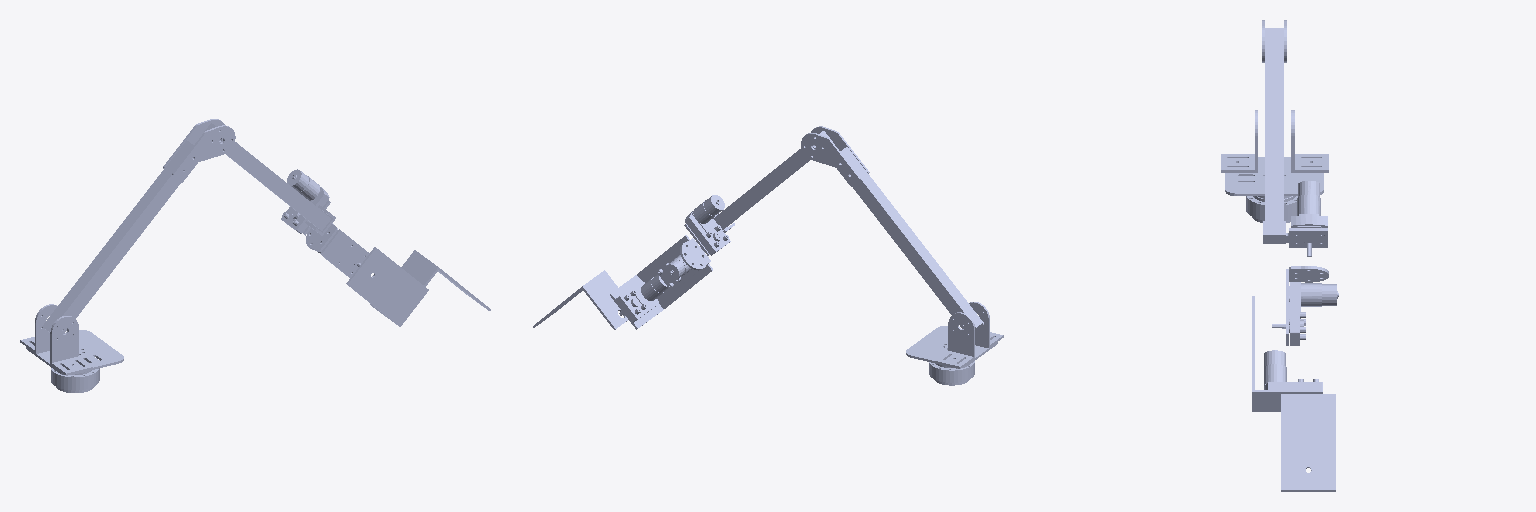
robot.urdf — arm_final:
<robot
  name="arm_final">
  <link
    name="base_link">
    <inertial>
      <origin
        xyz="-4.8919202022546E-16 -1.53002610581154E-15 0.0316685581856065"
        rpy="0 0 0" />
      <mass
        value="0.298004525740919" />
      <inertia
        ixx="0.000216487162040143"
        ixy="2.14511093892152E-19"
        ixz="6.62379764752863E-19"
        iyy="0.000216487162040143"
        iyz="-1.90836523016394E-18"
        izz="0.000273202741484089" />
    </inertial>
    <visual>
      <origin
        xyz="0 0 0"
        rpy="0 0 0" />
      <geometry>
        <mesh
          filename="package://arm_final/meshes/base_link.STL" />
      </geometry>
      <material
        name="">
        <color
          rgba="0.792156862745098 0.819607843137255 0.933333333333333 1" />
      </material>
    </visual>
    <collision>
      <origin
        xyz="0 0 0"
        rpy="0 0 0" />
      <geometry>
        <mesh
          filename="package://arm_final/meshes/base_link.STL" />
      </geometry>
    </collision>
  </link>
  <link
    name="dof_1">
    <inertial>
      <origin
        xyz="0.0244999196045124 0.0266781560710179 -0.0274078608809557"
        rpy="0 0 0" />
      <mass
        value="0.184566420416876" />
      <inertia
        ixx="0.000642874909767405"
        ixy="-5.78743454260767E-05"
        ixz="1.01840204362613E-06"
        iyy="0.000483827075446106"
        iyz="2.13199542065923E-06"
        izz="0.000380120979154723" />
    </inertial>
    <visual>
      <origin
        xyz="0 0 0"
        rpy="0 0 0" />
      <geometry>
        <mesh
          filename="package://arm_final/meshes/dof_1.STL" />
      </geometry>
      <material
        name="">
        <color
          rgba="0.792156862745098 0.819607843137255 0.933333333333333 1" />
      </material>
    </visual>
    <collision>
      <origin
        xyz="0 0 0"
        rpy="0 0 0" />
      <geometry>
        <mesh
          filename="package://arm_final/meshes/dof_1.STL" />
      </geometry>
    </collision>
  </link>
  <joint
    name="j_dof_1"
    type="continuous">
    <origin
      xyz="-0.0435 -0.027 0.10603"
      rpy="1.5708 1.5708 0" />
    <parent
      link="base_link" />
    <child
      link="dof_1" />
    <axis
      xyz="-1 0 0" />
  </joint>
  <link
    name="dof_2">
    <inertial>
      <origin
        xyz="0.169248177197148 0.00468167779047434 0.166953007051929"
        rpy="0 0 0" />
      <mass
        value="0.457478533761127" />
      <inertia
        ixx="0.00460376442673189"
        ixy="-1.98205709657506E-19"
        ixz="-0.00466753134808732"
        iyy="0.00945287913258603"
        iyz="-1.59919820441612E-18"
        izz="0.00494585962599626" />
    </inertial>
    <visual>
      <origin
        xyz="0 0 0"
        rpy="0 0 0" />
      <geometry>
        <mesh
          filename="package://arm_final/meshes/dof_2.STL" />
      </geometry>
      <material
        name="">
        <color
          rgba="0.792156862745098 0.819607843137255 0.933333333333333 1" />
      </material>
    </visual>
    <collision>
      <origin
        xyz="0 0 0"
        rpy="0 0 0" />
      <geometry>
        <mesh
          filename="package://arm_final/meshes/dof_2.STL" />
      </geometry>
    </collision>
  </link>
  <joint
    name="j_dof_2"
    type="revolute">
    <origin
      xyz="-0.029471 0.0035 -0.021818"
      rpy="-1.5708 -1.5103E-14 1.5708" />
    <parent
      link="dof_1" />
    <child
      link="dof_2" />
    <axis
      xyz="0 -1 0" />
    <limit
      lower="-0.34"
      upper="1.3"
      effort="0"
      velocity="0" />
  </joint>
  <link
    name="dof_3">
    <inertial>
      <origin
        xyz="0.156732267290883 0.0250916520294329 -0.150336651462648"
        rpy="0 0 0" />
      <mass
        value="0.519004826088558" />
      <inertia
        ixx="0.00349626515568729"
        ixy="-0.000749497325149855"
        ixz="0.00304089129286526"
        iyy="0.00643696142998314"
        iyz="0.000631377049987083"
        izz="0.00382311214222597" />
    </inertial>
    <visual>
      <origin
        xyz="0 0 0"
        rpy="0 0 0" />
      <geometry>
        <mesh
          filename="package://arm_final/meshes/dof_3.STL" />
      </geometry>
      <material
        name="">
        <color
          rgba="0.792156862745098 0.819607843137255 0.933333333333333 1" />
      </material>
    </visual>
    <collision>
      <origin
        xyz="0 0 0"
        rpy="0 0 0" />
      <geometry>
        <mesh
          filename="package://arm_final/meshes/dof_3.STL" />
      </geometry>
    </collision>
  </link>
  <joint
    name="j_dof_3"
    type="revolute">
    <origin
      xyz="0.35124 0 0.31344"
      rpy="-3.4694E-18 -1.3878E-17 1.2143E-17" />
    <parent
      link="dof_2" />
    <child
      link="dof_3" />
    <axis
      xyz="0 -1 0" />
    <limit
      lower="-0.75"
      upper="1.13"
      effort="0"
      velocity="0" />
  </joint>
  <link
    name="dof_4">
    <inertial>
      <origin
        xyz="0.0704384576587642 -0.0119497807017928 -0.0704565954495338"
        rpy="0 0 0" />
      <mass
        value="0.214734243860134" />
      <inertia
        ixx="0.000224163723514465"
        ixy="3.94569148630422E-05"
        ixz="7.36506705649978E-05"
        iyy="0.000243644832516678"
        iyz="-3.94981523185265E-05"
        izz="0.000224085439121708" />
    </inertial>
    <visual>
      <origin
        xyz="0 0 0"
        rpy="0 0 0" />
      <geometry>
        <mesh
          filename="package://arm_final/meshes/dof_4.STL" />
      </geometry>
      <material
        name="">
        <color
          rgba="0.792156862745098 0.819607843137255 0.933333333333333 1" />
      </material>
    </visual>
    <collision>
      <origin
        xyz="0 0 0"
        rpy="0 0 0" />
      <geometry>
        <mesh
          filename="package://arm_final/meshes/dof_4.STL" />
      </geometry>
    </collision>
  </link>
  <joint
    name="j_dof_4"
    type="revolute">
    <origin
      xyz="0.22524 0.060682 -0.25352"
      rpy="-3.4694E-18 -1.3878E-17 1.2143E-17" />
    <parent
      link="dof_3" />
    <child
      link="dof_4" />
    <axis
      xyz="-0.70711 0 0.70711" />
    <limit
      lower="-1.57"
      upper="2.3"
      effort="0"
      velocity="0" />
  </joint>
  <link
    name="dof_5">
    <inertial>
      <origin
        xyz="0.0648233009354049 -0.0492553742798068 -0.0648368742596185"
        rpy="0 0 0" />
      <mass
        value="0.286949151467163" />
      <inertia
        ixx="0.000612123465719283"
        ixy="-0.000157903243673435"
        ixz="0.000173114616600611"
        iyy="0.000578013092781289"
        iyz="0.000157997620916116"
        izz="0.000611994831664837" />
    </inertial>
    <visual>
      <origin
        xyz="0 0 0"
        rpy="0 0 0" />
      <geometry>
        <mesh
          filename="package://arm_final/meshes/dof_5.STL" />
      </geometry>
      <material
        name="">
        <color
          rgba="0.792156862745098 0.819607843137255 0.933333333333333 1" />
      </material>
    </visual>
    <collision>
      <origin
        xyz="0 0 0"
        rpy="0 0 0" />
      <geometry>
        <mesh
          filename="package://arm_final/meshes/dof_5.STL" />
      </geometry>
    </collision>
  </link>
  <joint
    name="j_dof_5"
    type="revolute">
    <origin
      xyz="0.097485 0 -0.097485"
      rpy="-3.4694E-18 -1.3878E-17 1.2143E-17" />
    <parent
      link="dof_4" />
    <child
      link="dof_5" />
    <axis
      xyz="0 -1 0" />
    <limit
      lower="-1.57"
      upper="1.57"
      effort="0"
      velocity="0" />
  </joint>
  <link
    name="dof_6">
    <inertial>
      <origin
        xyz="0.133615661096911 4.02455846426619E-15 -0.0368420116719946"
        rpy="0 0 0" />
      <mass
        value="0.119536504591507" />
      <inertia
        ixx="0.000196101200035635"
        ixy="-1.04036821746509E-18"
        ixz="0.000111858189445449"
        iyy="0.000470580806244086"
        iyz="2.27851862811407E-19"
        izz="0.000438421157653592" />
    </inertial>
    <visual>
      <origin
        xyz="0 0 0"
        rpy="0 0 0" />
      <geometry>
        <mesh
          filename="package://arm_final/meshes/dof_6.STL" />
      </geometry>
      <material
        name="">
        <color
          rgba="0.792156862745098 0.819607843137255 0.933333333333333 1" />
      </material>
    </visual>
    <collision>
      <origin
        xyz="0 0 0"
        rpy="0 0 0" />
      <geometry>
        <mesh
          filename="package://arm_final/meshes/dof_6.STL" />
      </geometry>
    </collision>
  </link>
  <joint
    name="j_dof_6"
    type="revolute">
    <origin
      xyz="0.057446 -0.001 -0.057446"
      rpy="-3.4694E-18 -1.3878E-17 1.2143E-17" />
    <parent
      link="dof_5" />
    <child
      link="dof_6" />
    <axis
      xyz="-0.70711 0 0.70711" />
    <limit
      lower="-1.57"
      upper="1.57"
      effort="0"
      velocity="0" />
  </joint>
</robot>

--- Render facts (derived) ---
Views: 3 orthographic renders of the robot side by side, from view 1: azimuth 30°, elevation 25°; view 2: azimuth 150°, elevation 25°; view 3: azimuth 270°, elevation 25°.
Robot: arm_final — 7 links, 6 joints (5 revolute, 1 continuous); root link base_link; default pose: all joints at 0.
Links seen in each view (by area): view 1: dof_2, dof_1, dof_3, dof_5, dof_4, dof_6, base_link; view 2: dof_2, dof_3, dof_1, dof_5, dof_4, dof_6, base_link; view 3: dof_3, dof_6, dof_1, dof_4, dof_5, base_link.
Boxes of the visible links, left/top/right/bottom form: dof_2: left=42, top=119, right=235, bottom=333; dof_1: left=20, top=304, right=123, bottom=375; dof_3: left=204, top=123, right=335, bottom=235; dof_5: left=346, top=247, right=428, bottom=326; dof_4: left=306, top=223, right=369, bottom=277; dof_6: left=401, top=250, right=490, bottom=310; base_link: left=51, top=362, right=99, bottom=392; dof_2: left=801, top=126, right=983, bottom=328; dof_3: left=684, top=131, right=832, bottom=255; dof_1: left=906, top=302, right=1003, bottom=368; dof_5: left=610, top=235, right=712, bottom=329; dof_4: left=654, top=238, right=710, bottom=291; dof_6: left=533, top=270, right=627, bottom=329; base_link: left=929, top=361, right=974, bottom=385; dof_3: left=1263, top=29, right=1327, bottom=256; dof_6: left=1281, top=394, right=1335, bottom=491; dof_1: left=1221, top=110, right=1328, bottom=195; dof_4: left=1272, top=266, right=1338, bottom=345; dof_5: left=1252, top=296, right=1322, bottom=411; base_link: left=1246, top=196, right=1297, bottom=222.
Bounding box of the posed robot: 0.9914 × 0.191 × 0.5424 m (x, y, z).
Meshes: 7 distinct files referenced, 7 mesh visuals loaded (7 binary STL).